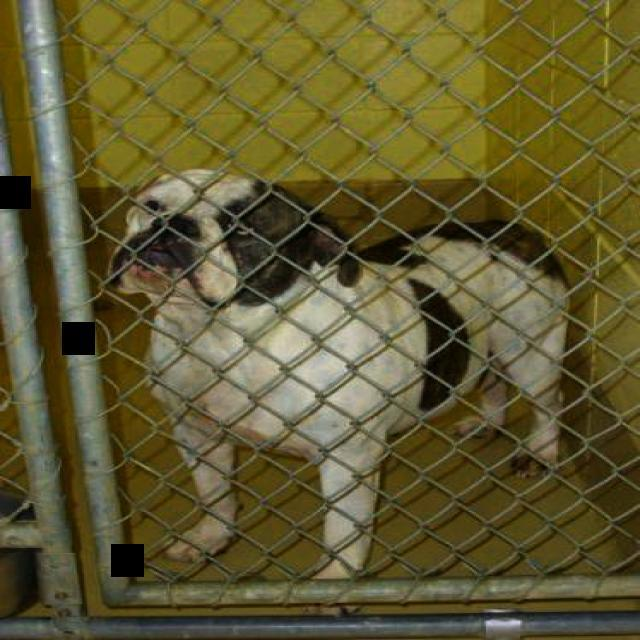adult_dog: (110, 169, 572, 615)
